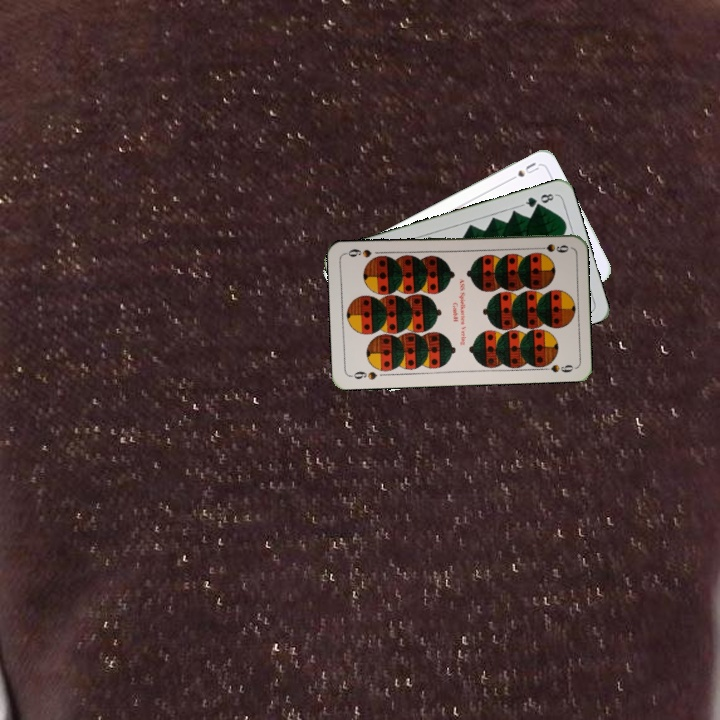G8: (518, 189, 558, 210)
S9: (531, 240, 571, 255), (347, 367, 379, 382)
SU: (503, 158, 541, 185)
